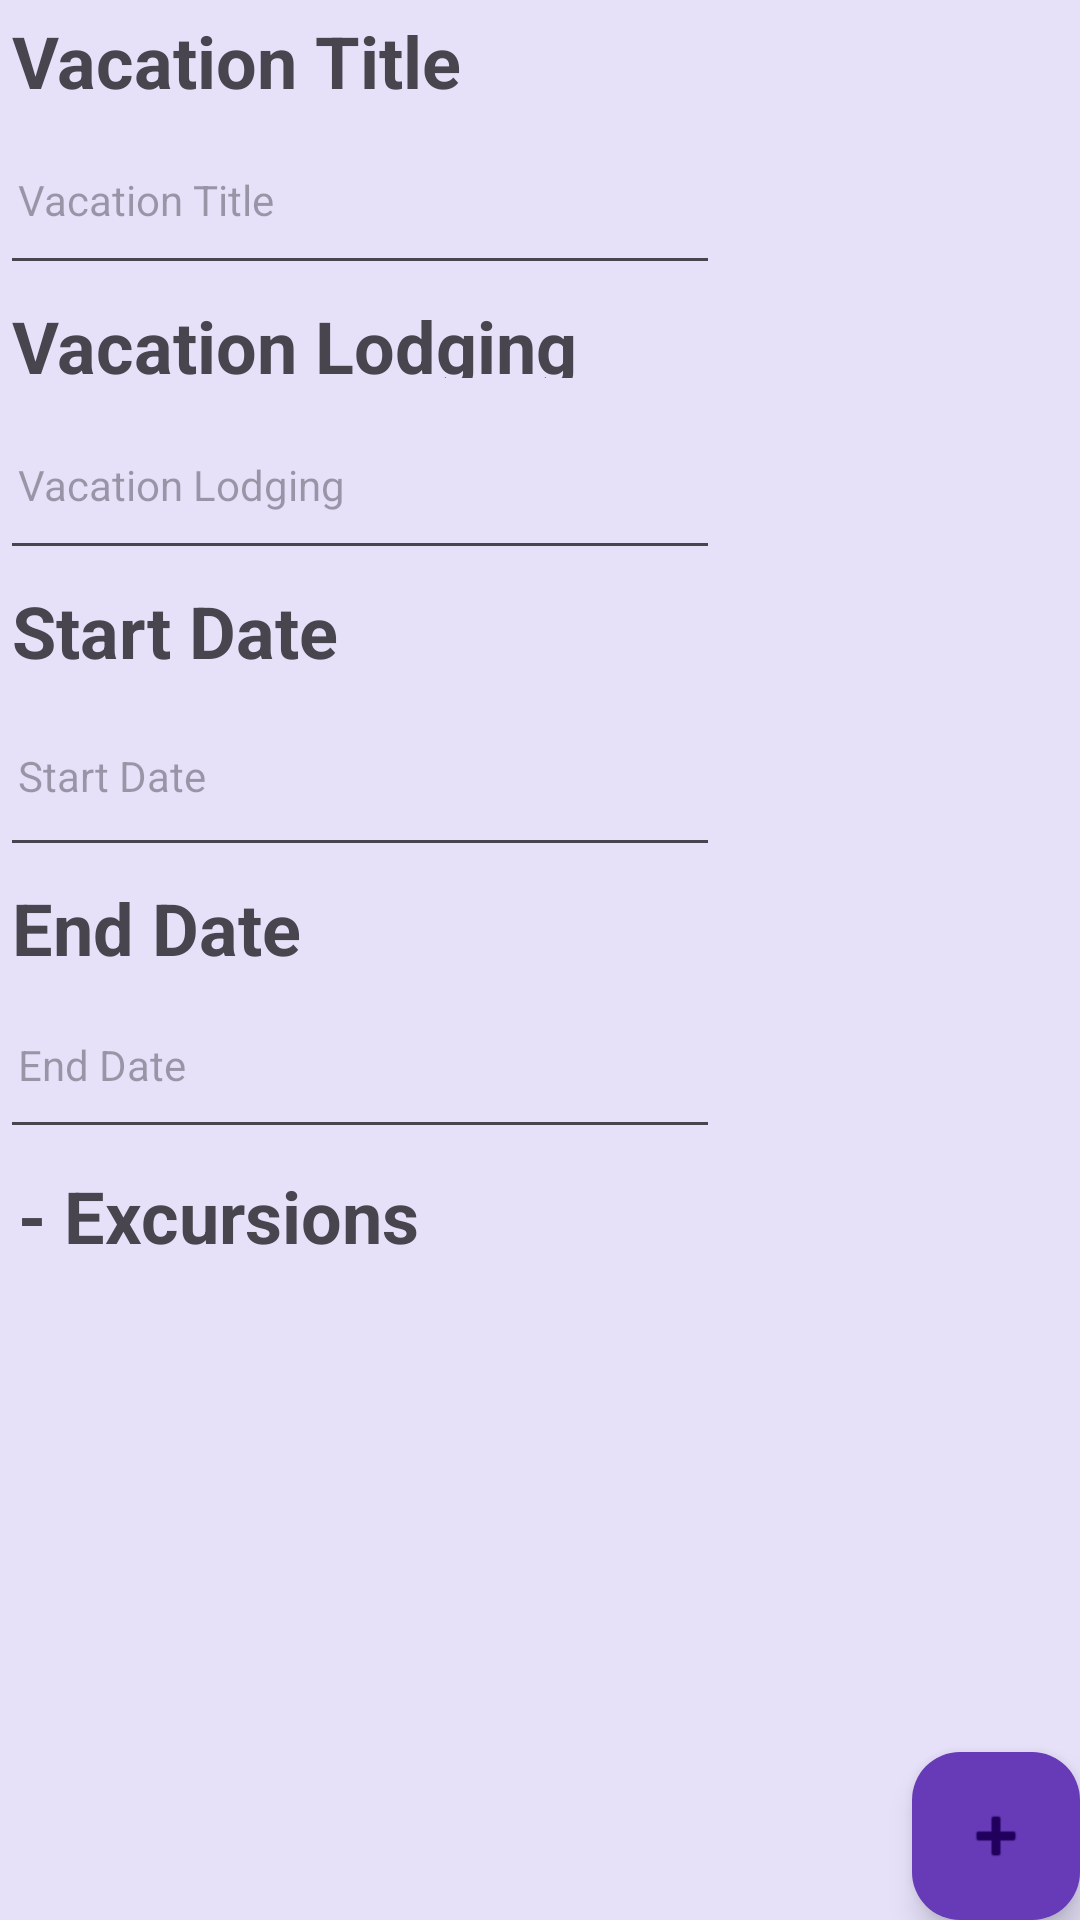

Icon bounding boxes for this 1080px x 1920px phone screenshot, format (x1, y1, x2, y2):
Enter Excursion Details: (912, 1752, 1080, 1920)
